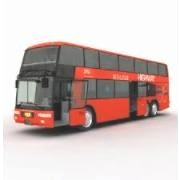bus: (15, 39, 171, 130)
